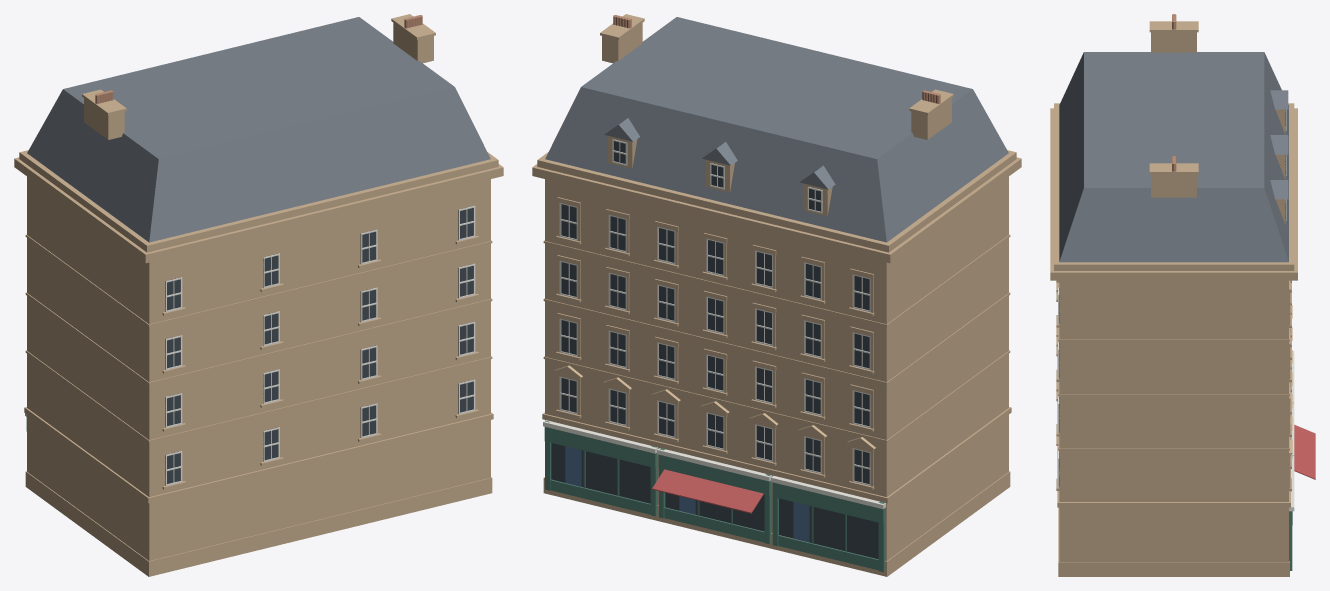
Rendered from classical5_shops.glb.
The picture shows the model from 3 angles, left to right: view 1: azimuth 30°, elevation 25°; view 2: azimuth 150°, elevation 25°; view 3: azimuth 270°, elevation 25°; orthographic projection. The views are drawn at different scales.
Parts seen in each view (by area): view 1: classical5_shops; view 2: classical5_shops; view 3: classical5_shops.
Boxes of the visible parts, left/top/right/bottom form: classical5_shops: left=14, top=14, right=503, bottom=576; classical5_shops: left=532, top=14, right=1021, bottom=576; classical5_shops: left=1050, top=14, right=1315, bottom=576.
Size of the model in its own units: 22 by 25.52 by 15.
